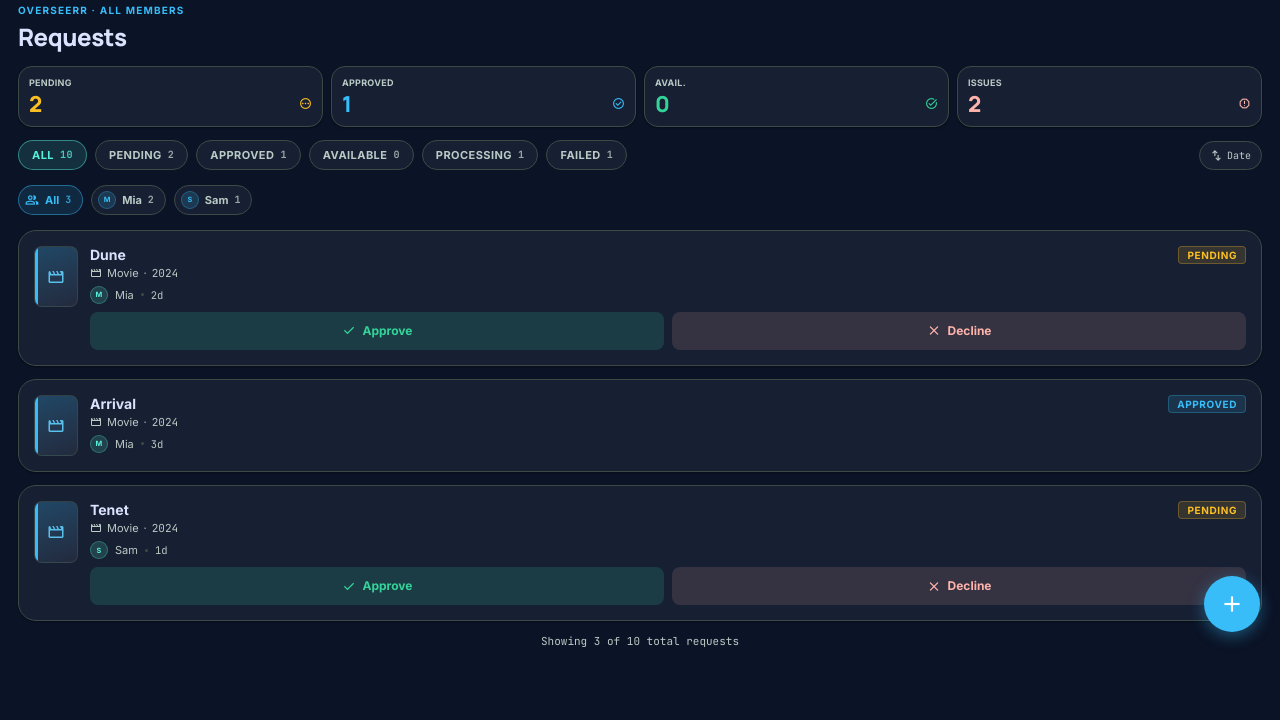
Test: MobileRequests — admin › filters the list to pending when the Pending chip is clicked
Expected: the text "Arrival" is shown, [90,395,136,412]
Click the button "Pending 2" at (142, 155), box [95,140,188,170]
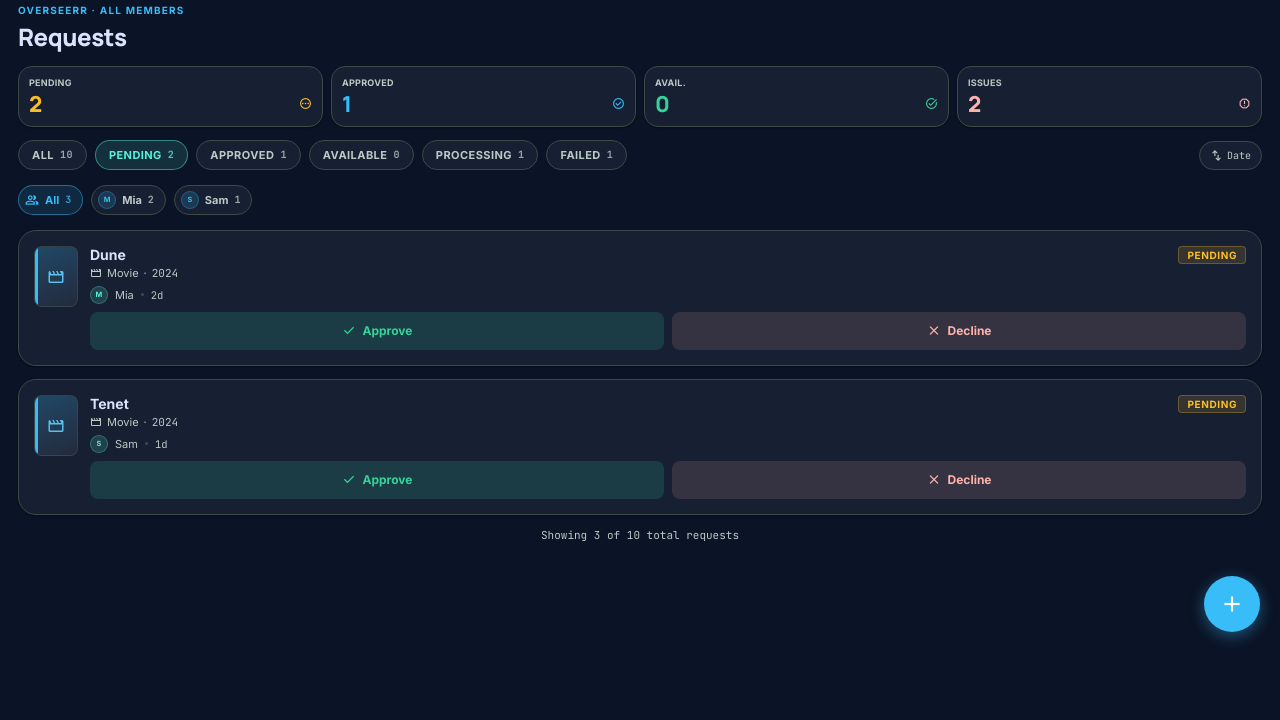
Expected: the text "Dune" is shown, [90,246,126,263]
Expected: the text "Arrival" is gone
